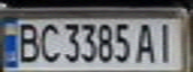3: (78, 20, 100, 63), (60, 20, 81, 64)
5: (112, 20, 136, 64)
8: (96, 20, 115, 64)
A: (133, 20, 160, 64)
B: (12, 20, 42, 64)
C: (36, 20, 60, 64)
I: (151, 19, 181, 63)
